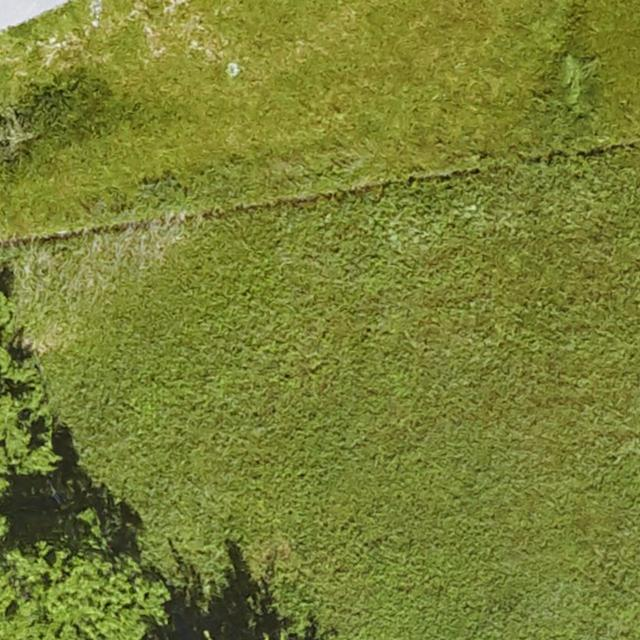tree: (0, 527, 166, 640), (0, 282, 63, 504)
